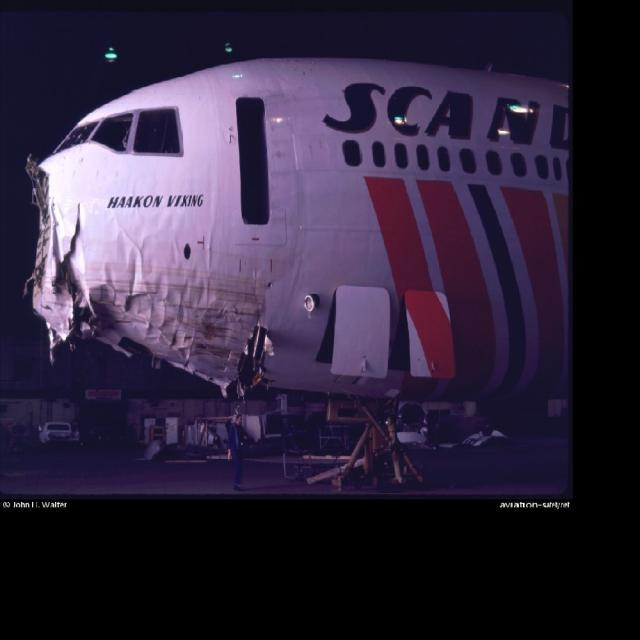crack: (58, 202, 91, 297)
dent: (101, 235, 239, 376)
